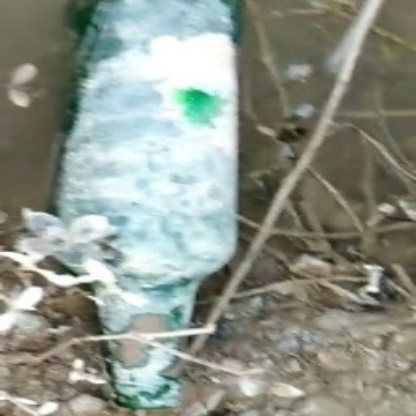bottle: (52, 2, 244, 409)
